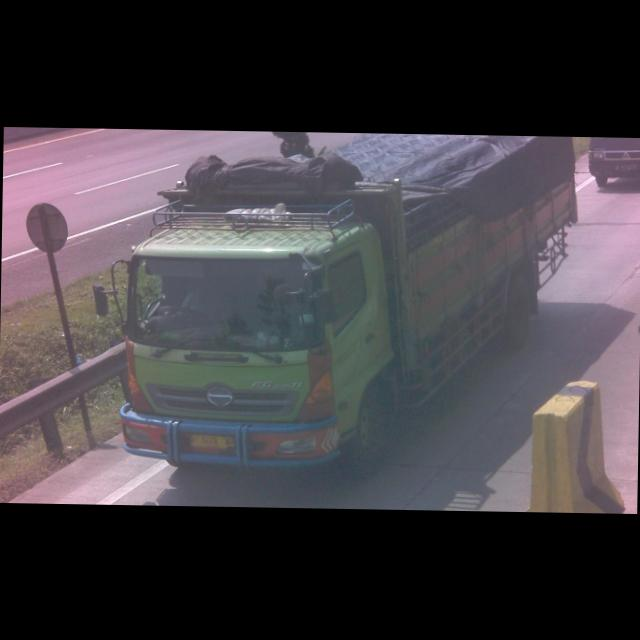plate: (188, 432, 234, 452)
